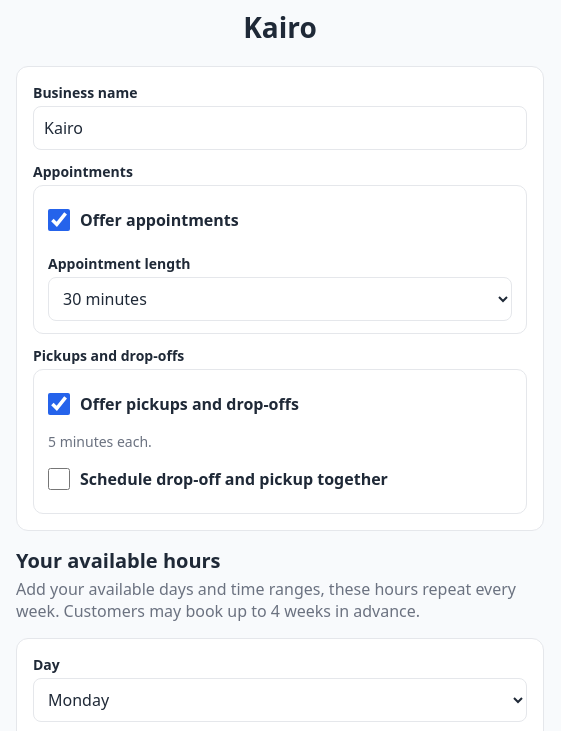
Scenario: Pickup and drop-off settings › shows the together option only when pickups and drop-offs are offered
expect the checkbox labelled "Offer pickups and drop-offs" is checked: met, box [48,393,70,415]
Click the checkbox labelled "Schedule drop-off and pickup together" at (59, 479), box [48,468,70,490]
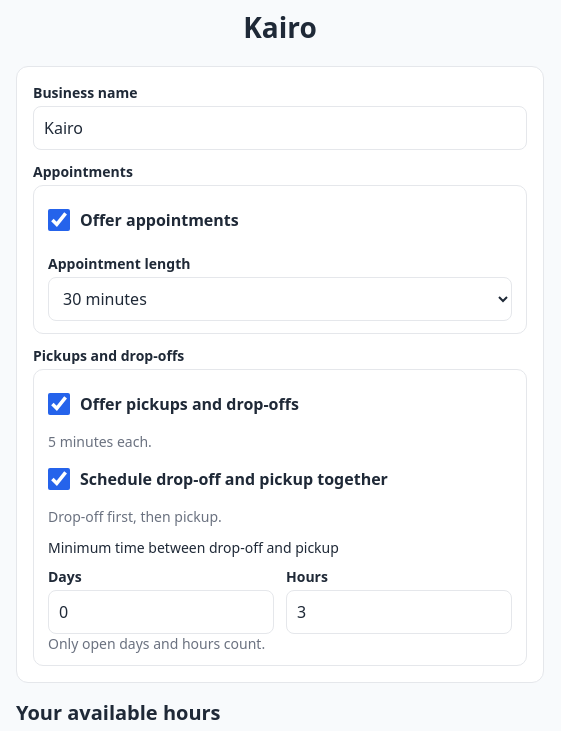
expect the number field labelled "Days" holds "0": met, box [48,590,274,634]
expect the number field labelled "Hours" holds "3": met, box [286,590,512,634]
Click the checkbox labelled "Offer pickups and drop-offs" at (59, 404), box [48,393,70,415]
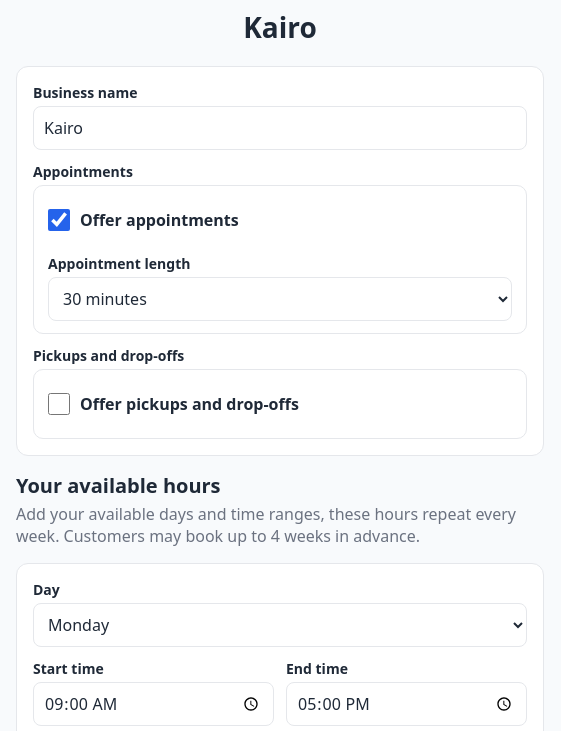
expect the text "5 minutes each." is gone: met
expect the label labelled "Schedule drop-off and pickup together" is gone: met
